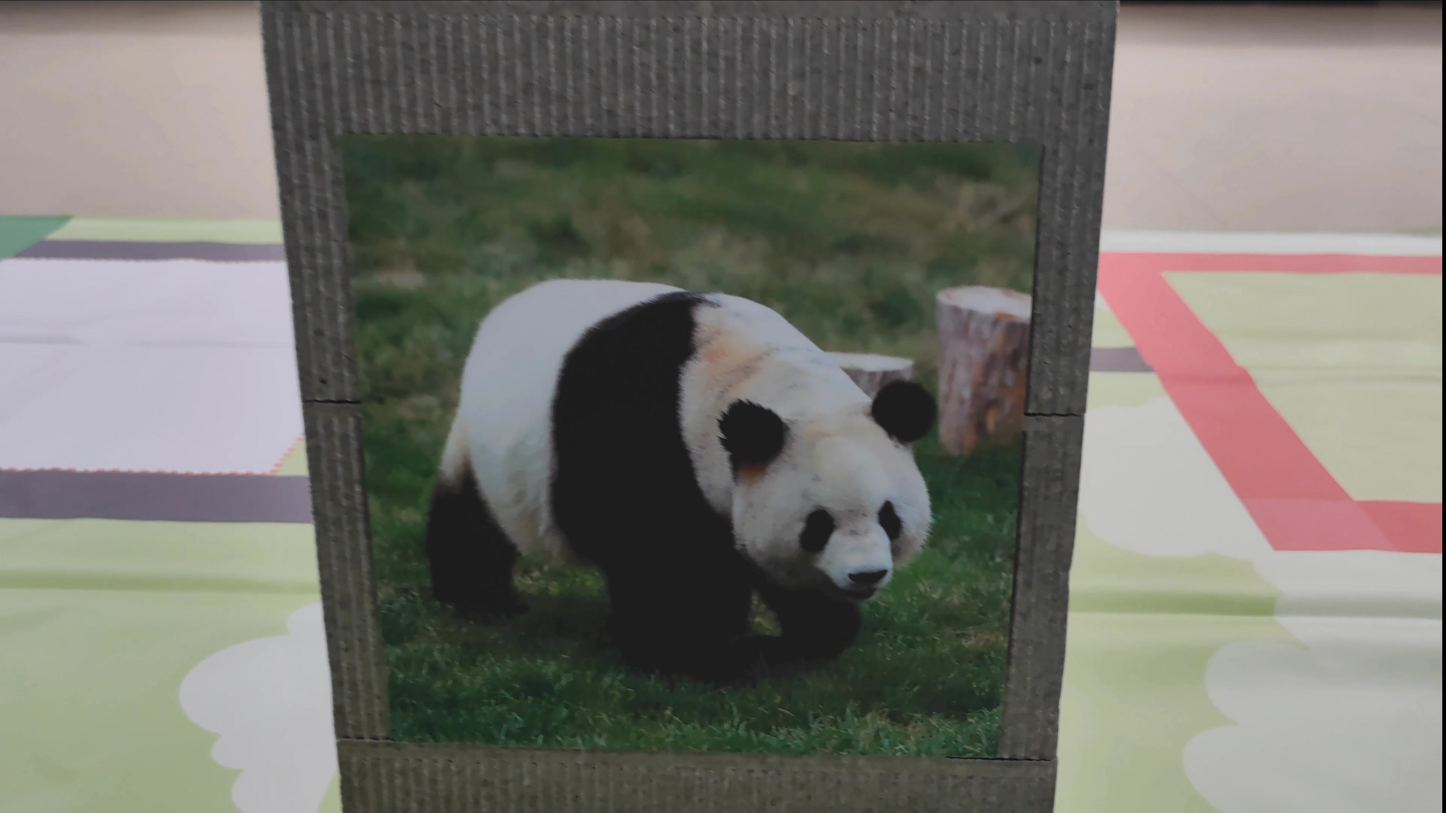panda: (404, 258, 949, 688)
